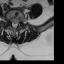CCS_normal: (13, 20, 16, 30)
LFS_severe_stenosis: (18, 18, 20, 24)
LLS_stenosis: (16, 20, 18, 27)
RFS_severe_stenosis: (8, 18, 11, 25)
RLS_normal: (11, 20, 13, 28)
